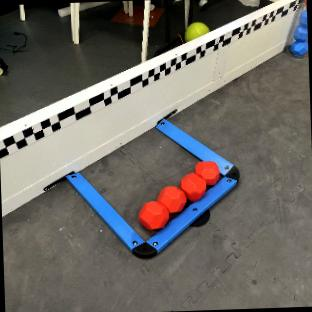V5_BLUE: (291, 10, 308, 55)
V5_RED: (139, 160, 219, 230)
